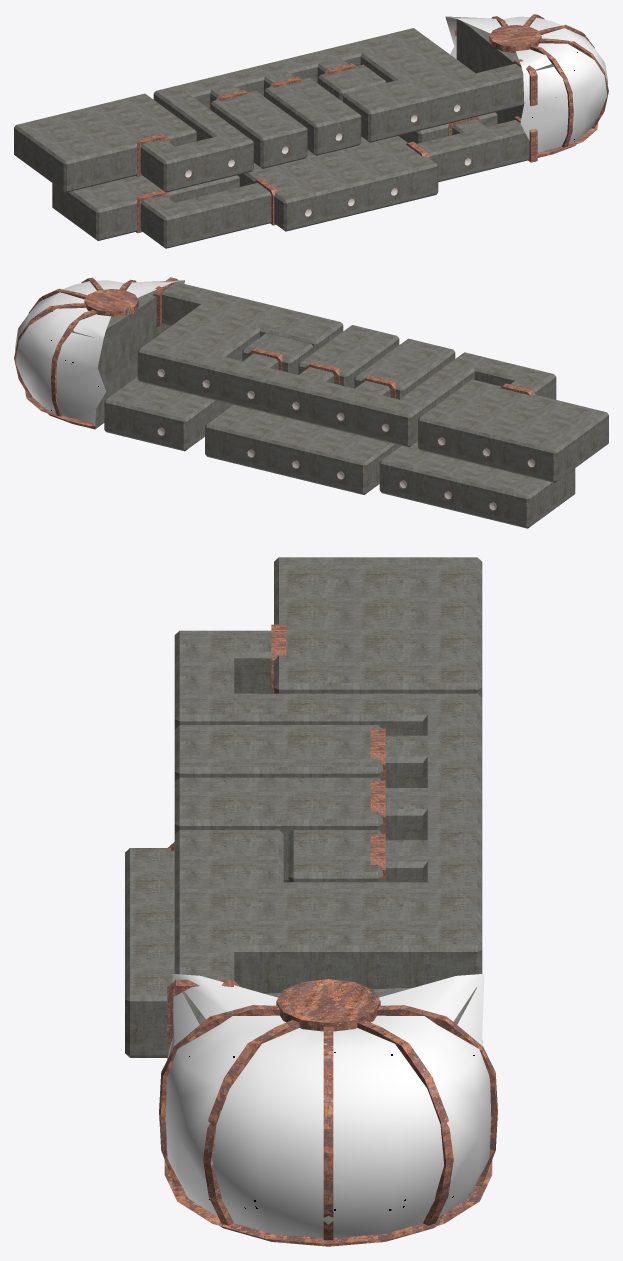
File: sub_layout.glb
3 views of the same model, one above another, from view 1: azimuth 30°, elevation 25°; view 2: azimuth 150°, elevation 25°; view 3: azimuth 270°, elevation 25° (orthographic). The views are drawn at different scales.
Visible parts, largest first — view 1: cieling, Circle.001, Circle, wall_2.103, wall_2.105, wall_window.011, wall_window.010, wall_window.020, wall_2.081, wall_2.089, wall_2.093, wall_window.008 (+47 smaller); view 2: cieling, Circle.001, Circle, wall_2.062, wall_window.004, wall_window.016, wall_2.002, wall_window.024, wall_2.014, wall_2.113, wall_window, wall_window.002 (+40 smaller); view 3: cieling, Circle.001, Circle, wall_2.012, wall_2.010, wall_2.009, wall_corner_in.028, wall_2.011, wall_corner_in.003, wall_corner_out.013, wall_corner_out.003.
Part boxes in pixels (x1,y1,x2,y2): cieling: [16, 28, 523, 217]; Circle.001: [445, 16, 607, 152]; Circle: [454, 14, 608, 157]; wall_2.103: [219, 199, 242, 235]; wall_2.105: [177, 209, 199, 245]; wall_window.011: [176, 153, 199, 189]; wall_window.010: [219, 143, 242, 179]; wall_window.020: [296, 192, 319, 228]; wall_2.081: [477, 136, 500, 172]; wall_2.089: [404, 166, 426, 202]; wall_2.093: [318, 187, 340, 223]; wall_window.008: [327, 116, 349, 152]; cieling: [107, 282, 606, 495]; Circle.001: [15, 280, 184, 426]; Circle: [14, 277, 170, 429]; wall_2.062: [452, 425, 476, 463]; wall_window.004: [194, 362, 218, 400]; wall_window.016: [436, 474, 460, 511]; wall_2.002: [351, 401, 375, 438]; wall_window.024: [150, 410, 173, 448]; wall_2.014: [172, 357, 195, 395]; wall_2.113: [459, 479, 482, 517]; wall_window: [284, 384, 307, 422]; wall_window.002: [374, 406, 397, 444]; cieling: [130, 557, 477, 994]; Circle.001: [165, 974, 491, 1238]; Circle: [159, 979, 497, 1246]; wall_2.012: [254, 945, 303, 993]; wall_2.010: [353, 945, 402, 989]; wall_2.009: [403, 945, 452, 987]; wall_corner_in.028: [125, 984, 154, 1057]; wall_2.011: [303, 945, 353, 981]; wall_corner_in.003: [452, 935, 482, 976]; wall_corner_out.013: [229, 651, 253, 693]; wall_corner_out.003: [229, 945, 253, 990].
Size of the model in its own units: 50.82 by 8.41 by 15.03.
7 materials, 7 textured.
